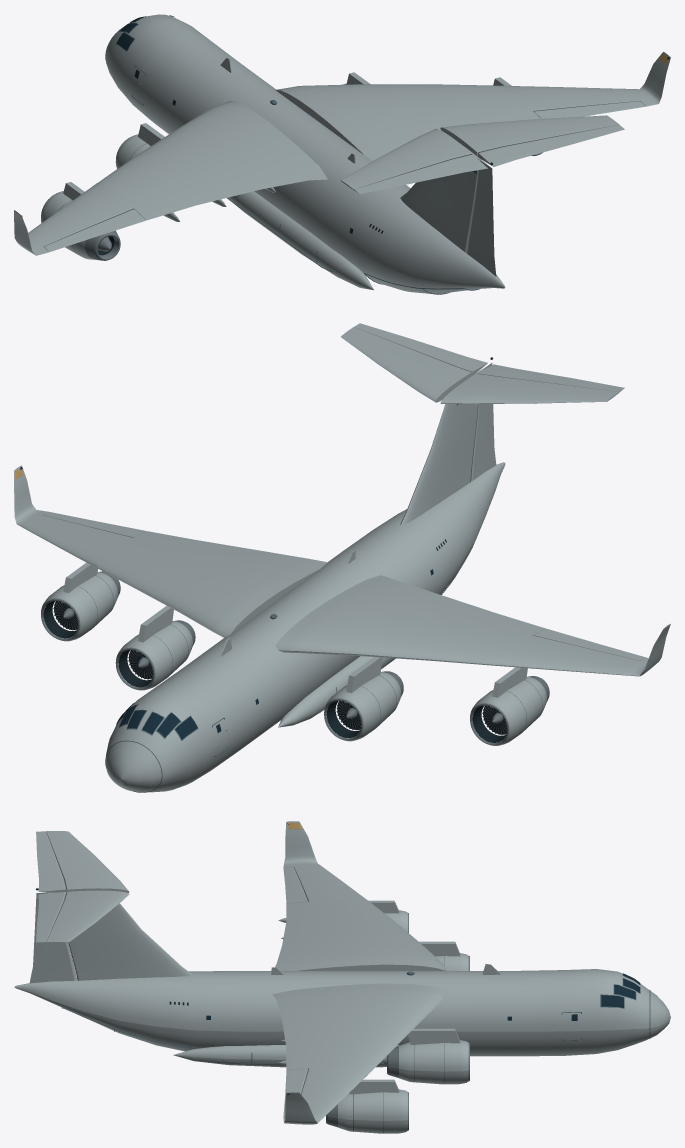
Rendered from player-c17-hero-v1.glb.
3 renders of one model, top to bottom at view 1: azimuth 30°, elevation 25°; view 2: azimuth 150°, elevation 25°; view 3: azimuth 270°, elevation 25°, orthographic. The views are drawn at different scales.
Parts seen in each view (by area): view 1: hull, rudder-skin, elevator-right-skin, elevator-left-skin, aileron-left-skin, aileron-right-skin, metal, trim; view 2: hull, dark, metal, rudder-skin, elevator-right-skin, glass, elevator-left-skin, trim, aileron-left-skin, aileron-right-skin; view 3: hull, rudder-skin, elevator-left-skin, elevator-right-skin, trim, glass, metal, aileron-left-skin, aileron-right-skin.
Boxes of the visible parts, <box> form: hull: <box>14,14,670,293</box>; rudder-skin: <box>466,159,496,276</box>; elevator-right-skin: <box>477,124,624,166</box>; elevator-left-skin: <box>354,154,487,193</box>; aileron-left-skin: <box>43,208,145,251</box>; aileron-right-skin: <box>533,101,645,118</box>; metal: <box>41,83,542,260</box>; trim: <box>58,15,479,294</box>; hull: <box>14,327,670,792</box>; dark: <box>43,539,506,742</box>; metal: <box>41,571,549,745</box>; rudder-skin: <box>471,363,496,481</box>; elevator-right-skin: <box>354,323,487,375</box>; glass: <box>20,357,493,739</box>; elevator-left-skin: <box>478,364,624,391</box>; trim: <box>62,404,542,792</box>; aileron-left-skin: <box>533,628,645,660</box>; aileron-right-skin: <box>44,512,145,537</box>; hull: <box>14,821,670,1133</box>; rudder-skin: <box>29,892,76,983</box>; elevator-left-skin: <box>36,831,66,892</box>; elevator-right-skin: <box>36,892,66,942</box>; trim: <box>62,956,650,1133</box>; glass: <box>36,888,639,1094</box>; metal: <box>326,913,566,1130</box>; aileron-left-skin: <box>283,867,308,903</box>; aileron-right-skin: <box>283,1068,308,1117</box>.
Size of the model in its own units: 51.75 by 14.79 by 53.
